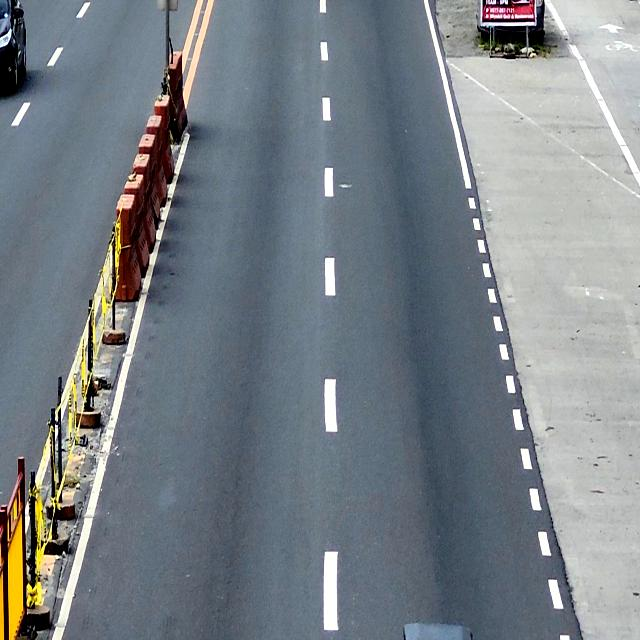Car: (0, 0, 27, 93)
